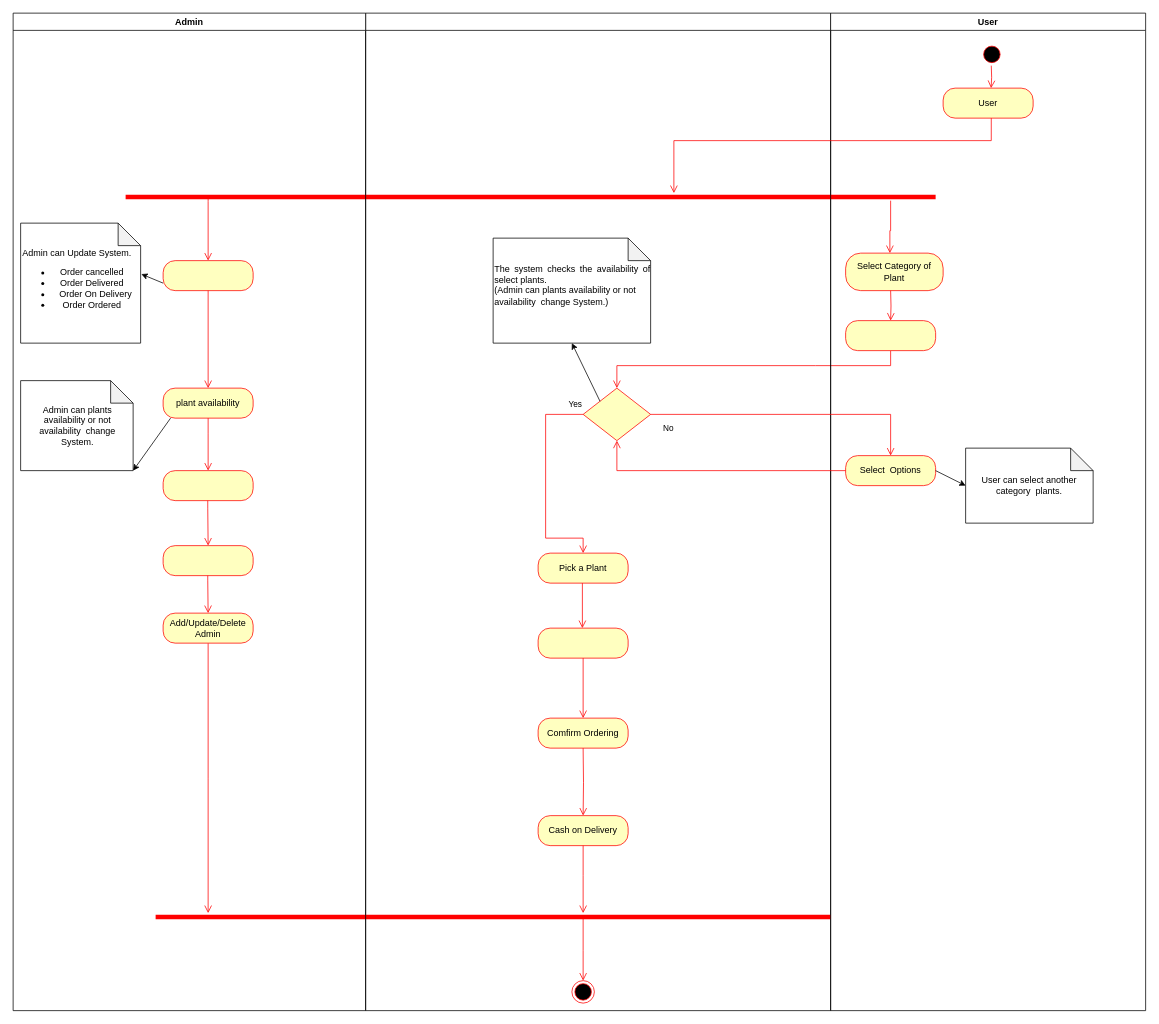
Some shapes in this 1159 by 1024 pixel diagram are drawn without their labels. Each missing label, with the box of its shape:
Add/Update/Delete Category: (162, 470, 253, 501)
Add/Update/Delete Plant: (162, 545, 253, 576)
Avalibility: (582, 387, 651, 441)
Customize It: (537, 627, 628, 658)
Nature Hub Plant Ordering Online System: (365, 12, 831, 1011)
Order cancel: (162, 260, 253, 291)
Select Plants: (845, 320, 936, 351)
